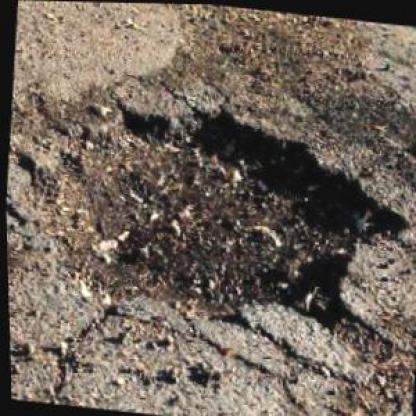pothole: (4, 83, 415, 343)
